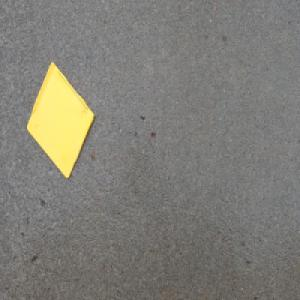PlasticPart: (25, 60, 95, 179)
